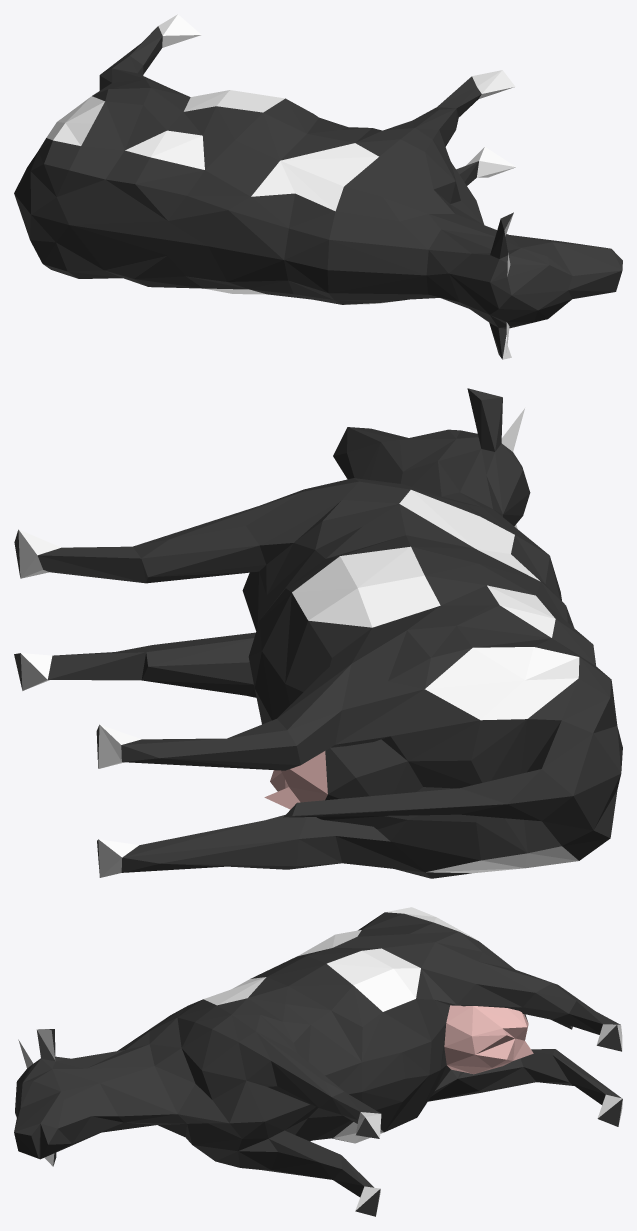
Rendered from cow.fbx.
3 renders of one model, top to bottom at view 1: azimuth 30°, elevation 25°; view 2: azimuth 150°, elevation 25°; view 3: azimuth 270°, elevation 25°, orthographic. The views are drawn at different scales.
Visible parts, largest first — view 1: grp1; view 2: grp1; view 3: grp1.
Part boxes in pixels (box(x1,y1,x2,y2)): grp1: box(14, 14, 622, 359); grp1: box(14, 388, 622, 878); grp1: box(14, 907, 622, 1216).
Size of the model in its own units: 342 by 124 by 415.
